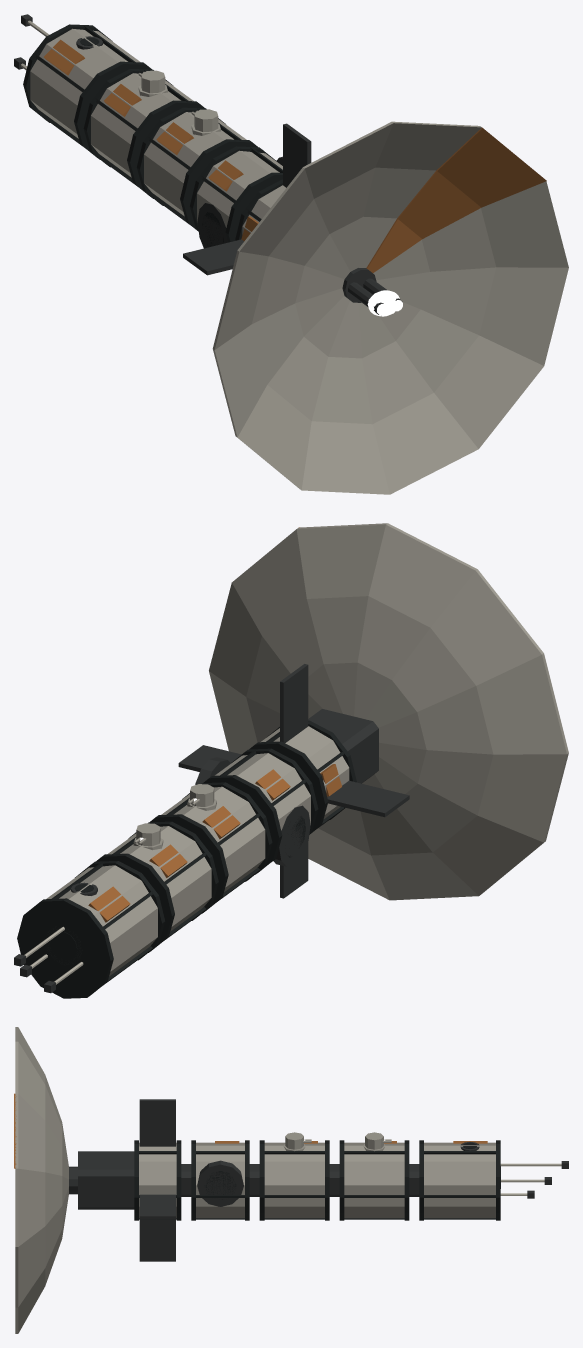
3 renders of one model, top to bottom at view 1: azimuth 30°, elevation 25°; view 2: azimuth 150°, elevation 25°; view 3: azimuth 270°, elevation 25°, orthographic. The views are drawn at different scales.
Parts seen in each view (by area): view 1: RIMWARD_HULL; view 2: RIMWARD_HULL; view 3: RIMWARD_HULL.
Part boxes in pixels (x1=…): RIMWARD_HULL: x1=14, y1=14, x2=568, y2=494; RIMWARD_HULL: x1=14, y1=523, x2=568, y2=998; RIMWARD_HULL: x1=14, y1=1027, x2=568, y2=1333.
Bounding box in the file's own units: 9.18 × 9.18 × 16.55.
